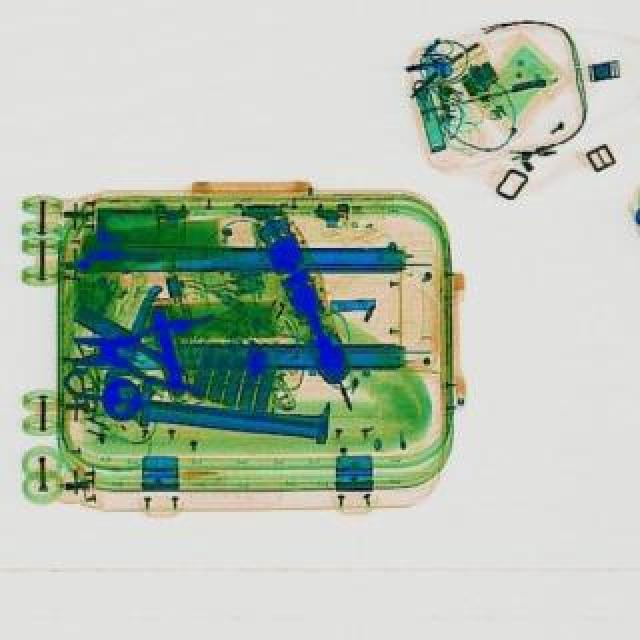wrench: (70, 312, 218, 402)
